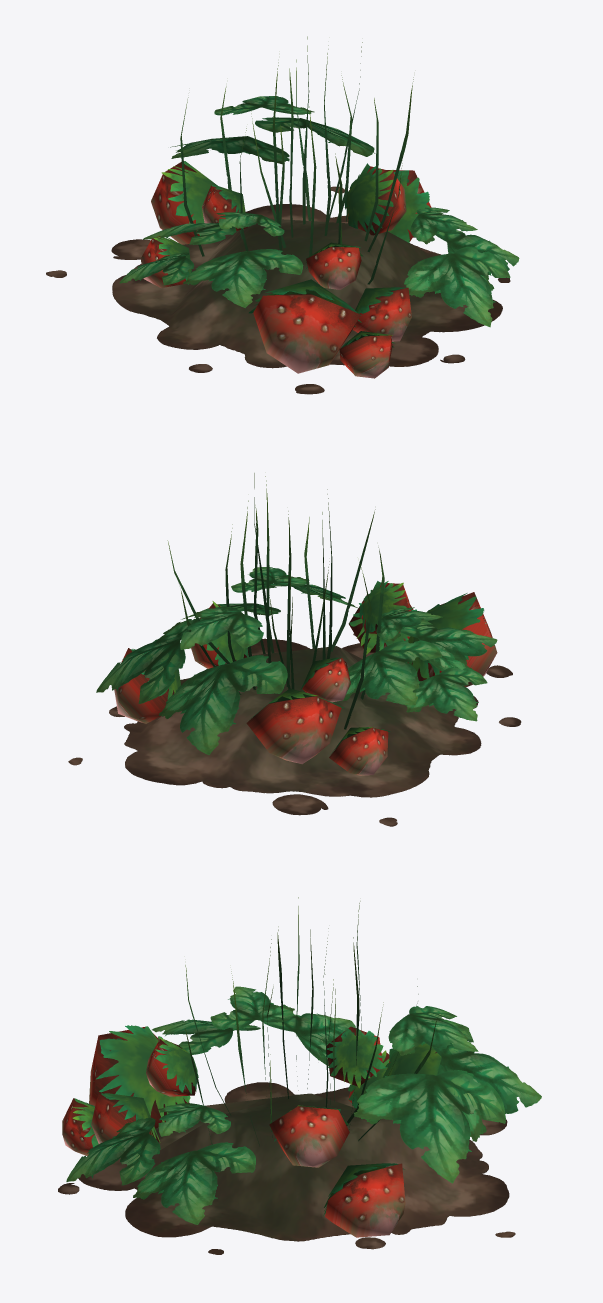
The model's file is stawberry_stage3.FBX.
The picture shows the model from 3 angles, top to bottom: view 1: azimuth 30°, elevation 25°; view 2: azimuth 150°, elevation 25°; view 3: azimuth 270°, elevation 25°; orthographic projection. The views are drawn at different scales.
Parts seen in each view (by area): view 1: stawberry_stage3; view 2: stawberry_stage3; view 3: stawberry_stage3.
Boxes of the visible parts, box(x1,y1,x2,y2) form: stawberry_stage3: box(46, 36, 519, 394); stawberry_stage3: box(68, 473, 521, 826); stawberry_stage3: box(58, 897, 541, 1254).
Size of the model in its own units: 5 by 2.71 by 4.94.
Materials: 1 (1 with a texture image).
